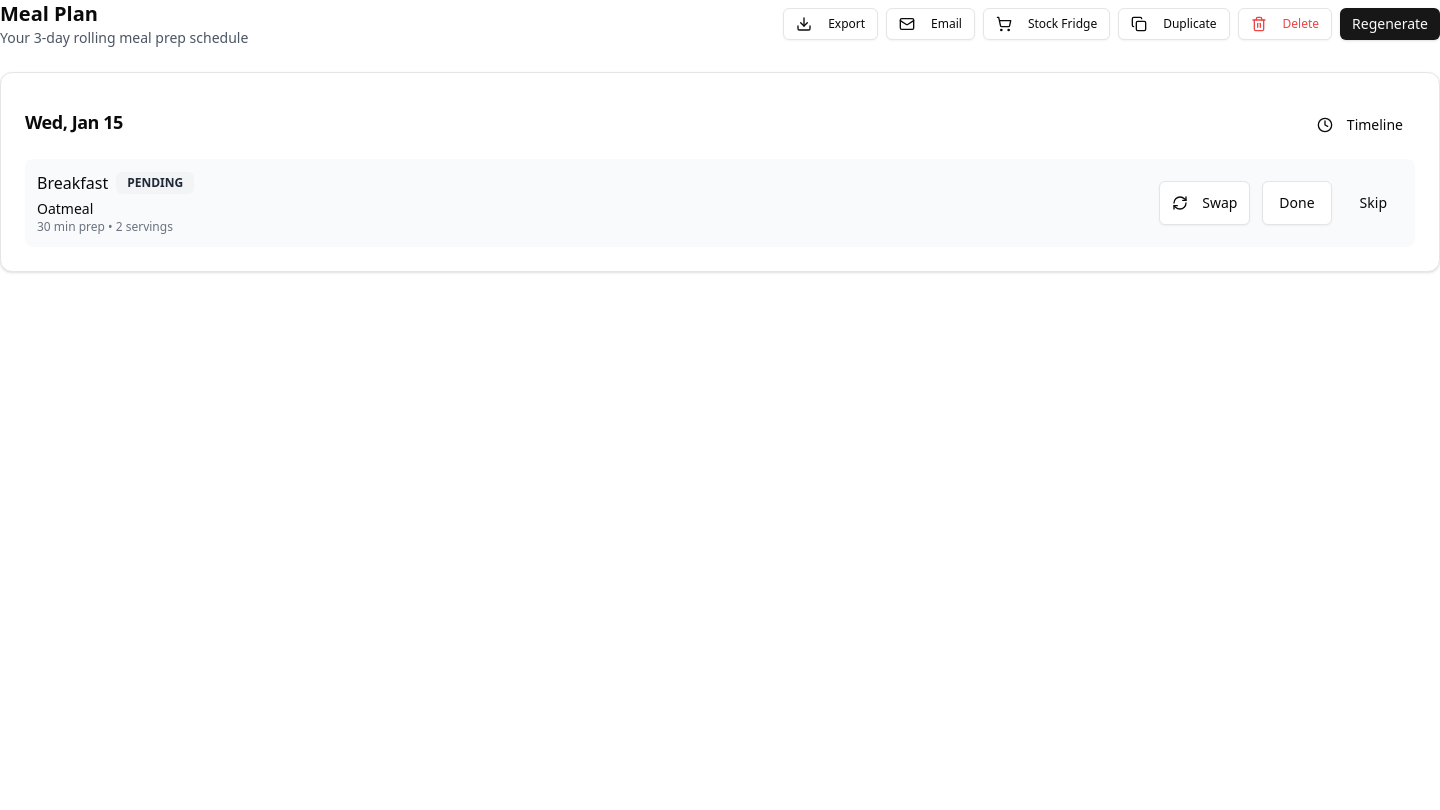
PlanView › delete plan action › should optimistically remove plan and close dialog when deleting
Click the button with aria-label "delete meal plan" at (1285,24), box left=1238, top=8, right=1332, bottom=40
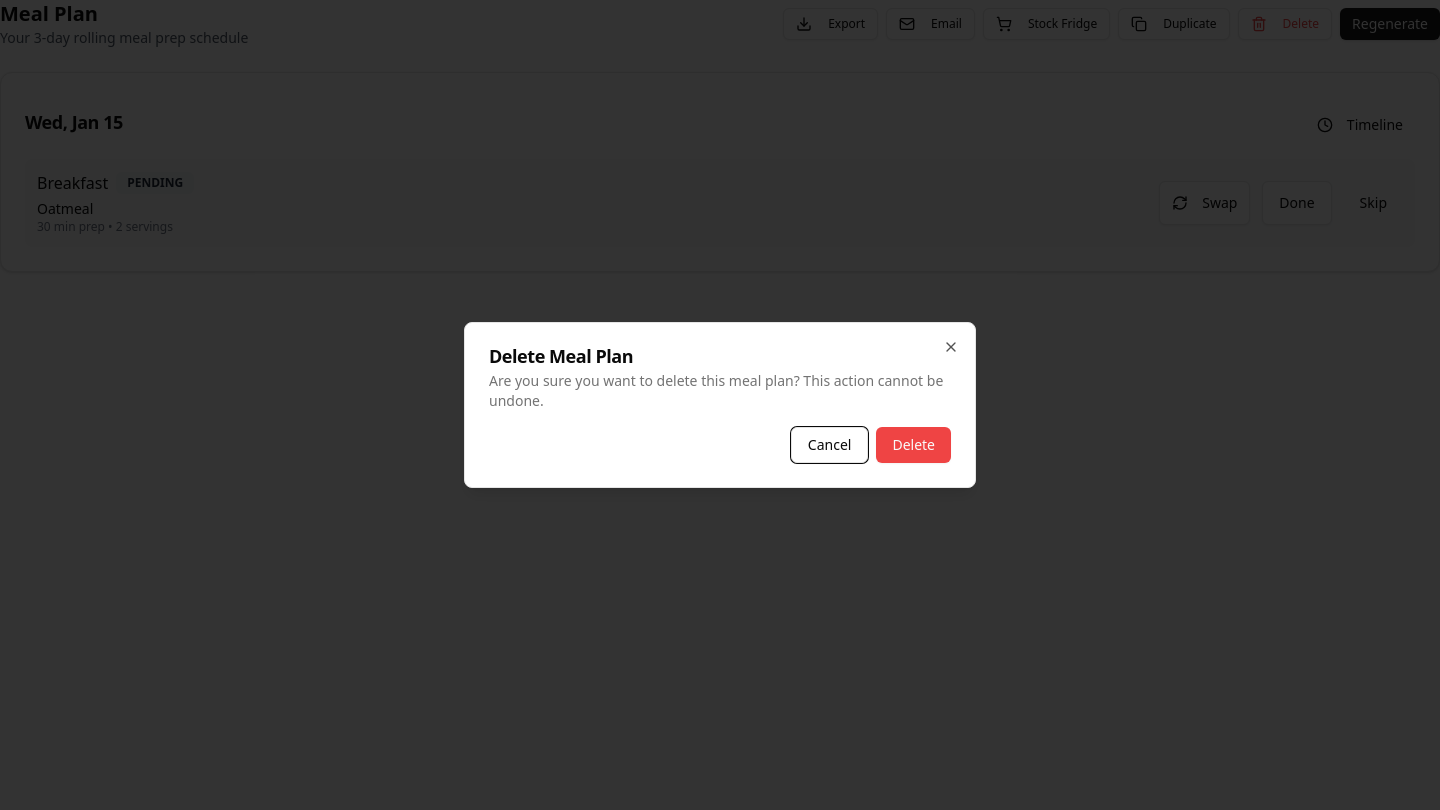
Check: the dialog is shown, box left=464, top=322, right=976, bottom=488
// Click the Delete button in the confirmation dialog
Click the button "Delete" at (914,445), box left=876, top=427, right=951, bottom=463
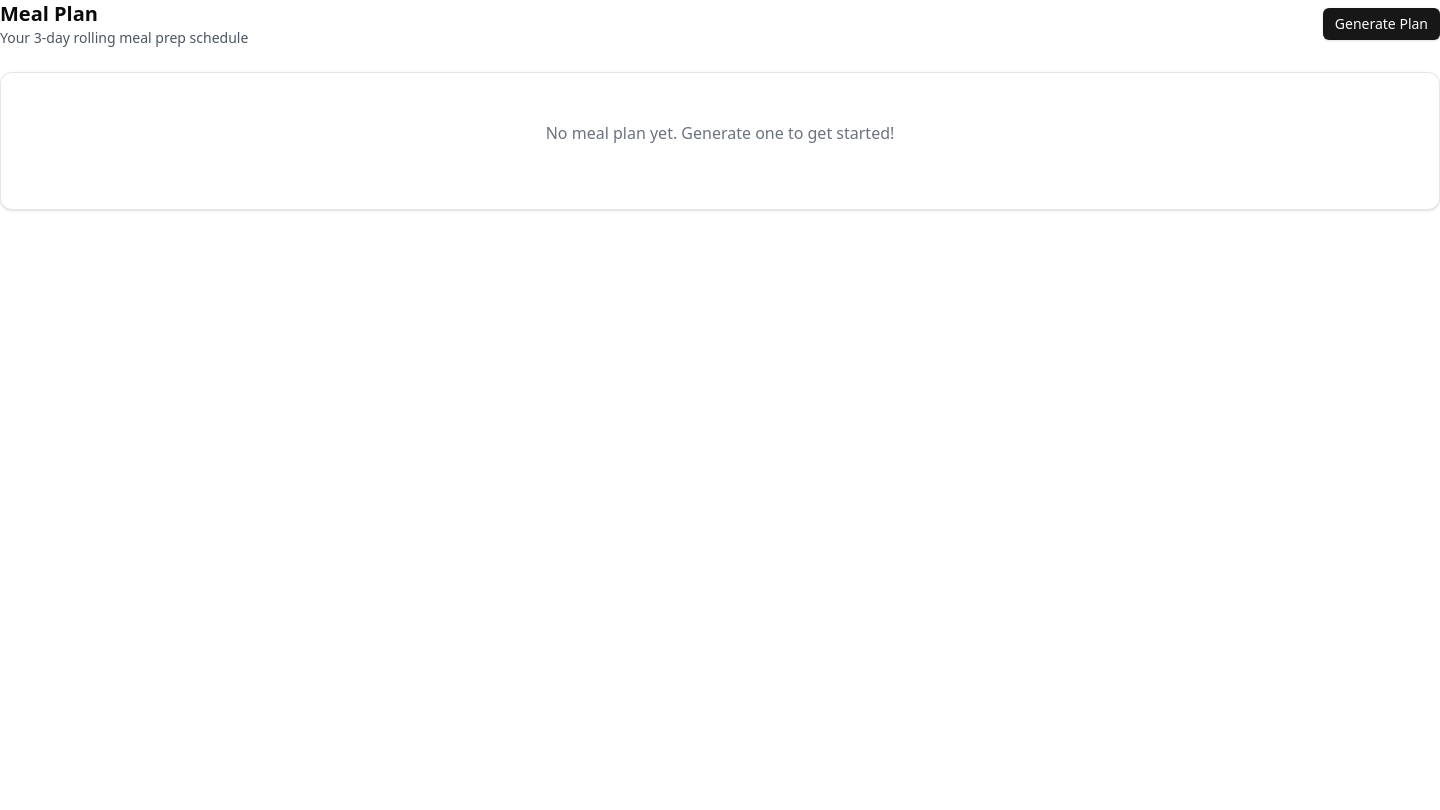
Check: the dialog is gone
